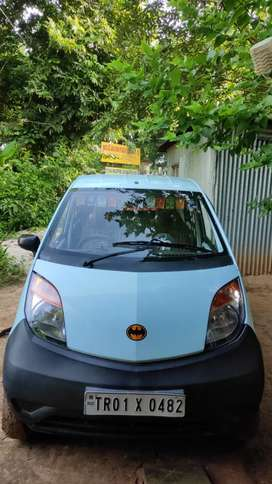TR01X0482: (83, 393, 185, 417)
